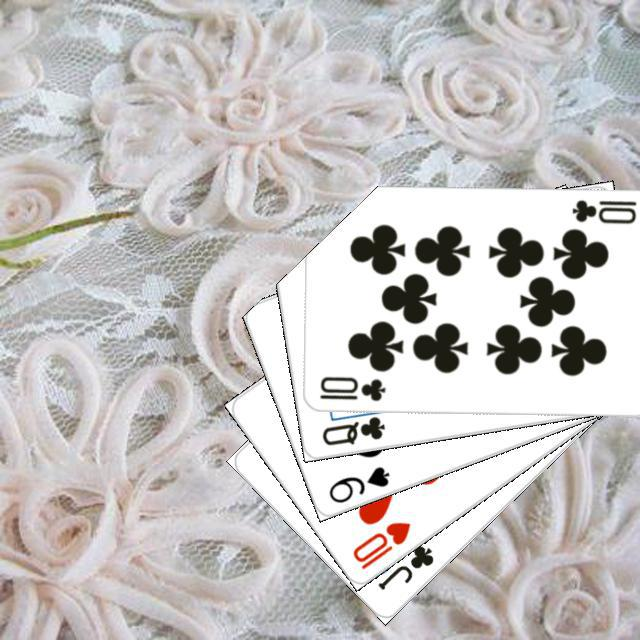10c: (315, 371, 387, 403), (567, 195, 638, 226)
10h: (347, 516, 413, 571)
9s: (324, 461, 391, 505)
Jc: (373, 540, 436, 592)
Qc: (317, 404, 391, 447)
